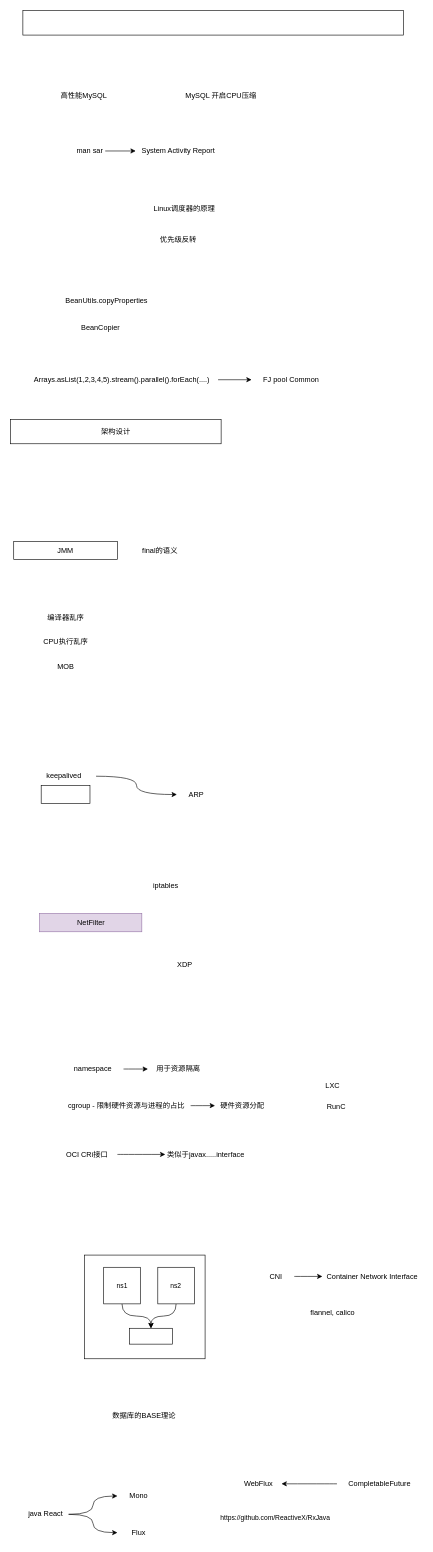
The diagram is 433 pixels wide and 1552 high, and some of its shapes have lost their labels. Each missing label, with the centre of its shape:
"LVS" goes at (x=65, y=794).
"第7期" goes at (x=213, y=22).
"虚拟网桥" goes at (x=150, y=1336).
